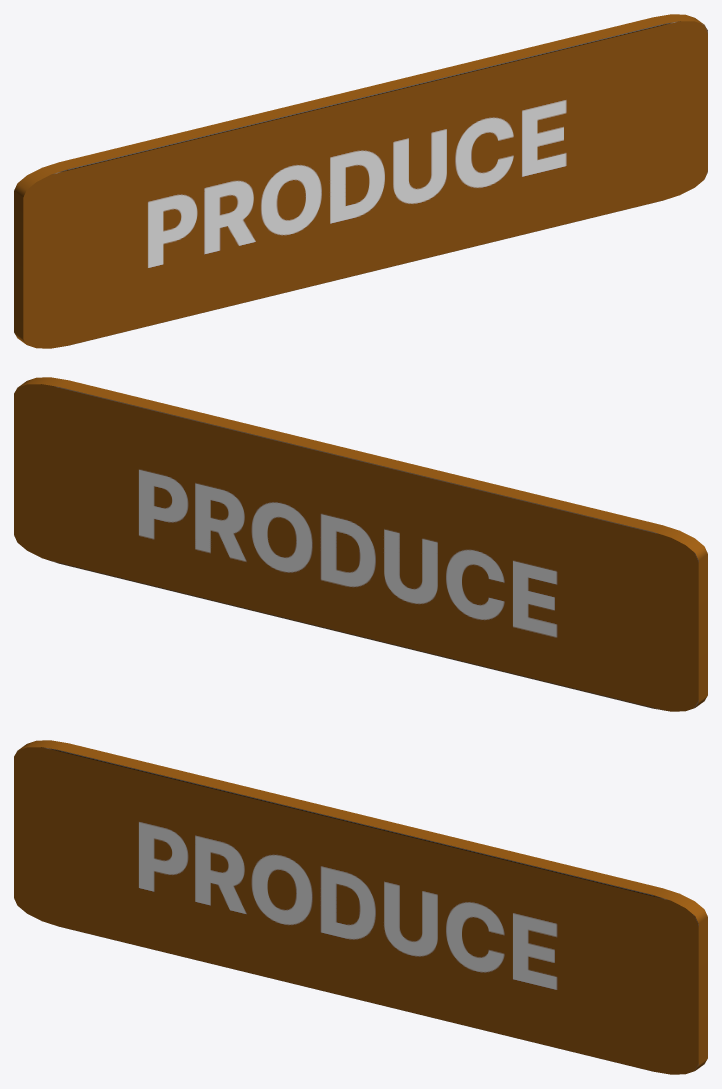
File: produce-sign.fbx
3 renders of one model, top to bottom at view 1: azimuth 30°, elevation 25°; view 2: azimuth 150°, elevation 25°; view 3: azimuth 330°, elevation 25°, orthographic.
Parts seen in each view (by area): view 1: pasted__pCube1; view 2: pasted__pCube1; view 3: pasted__pCube1.
Boxes of the visible parts, box(x1,y1,x2,y2) form: pasted__pCube1: box(14, 14, 707, 348); pasted__pCube1: box(14, 377, 707, 711); pasted__pCube1: box(14, 740, 707, 1074).
Size of the model in its own units: 42.52 by 10.49 by 1.
